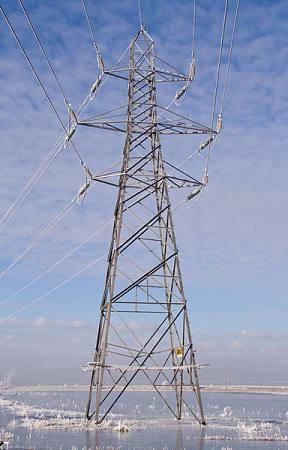power_tower: (71, 18, 226, 430)
